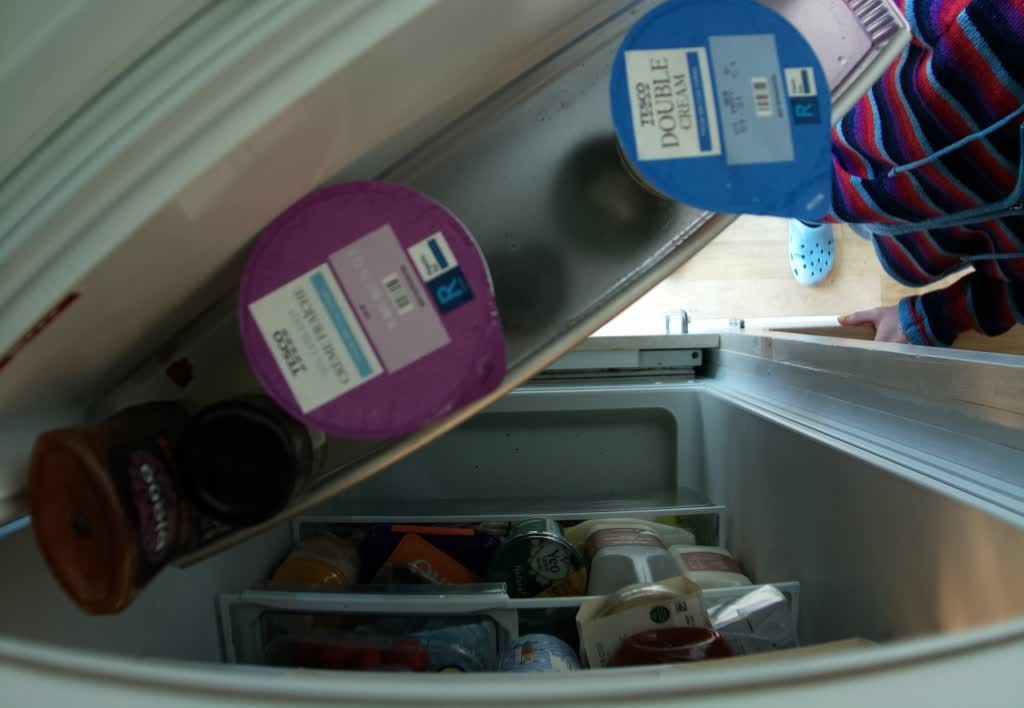cream: (229, 178, 508, 443), (608, 3, 845, 222)
